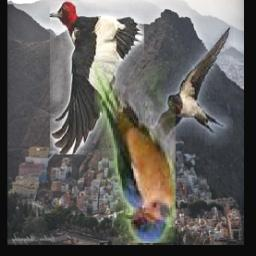Swallow: (94, 62, 176, 244), (135, 26, 233, 176)
Woodpecker: (50, 1, 144, 154)
